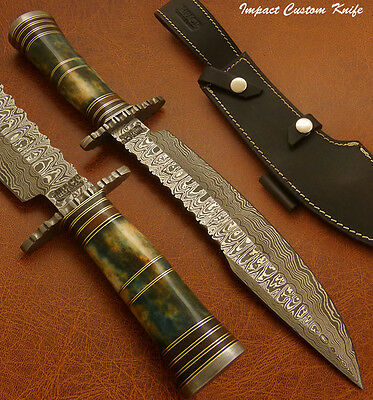knief: (20, 17, 361, 378)
